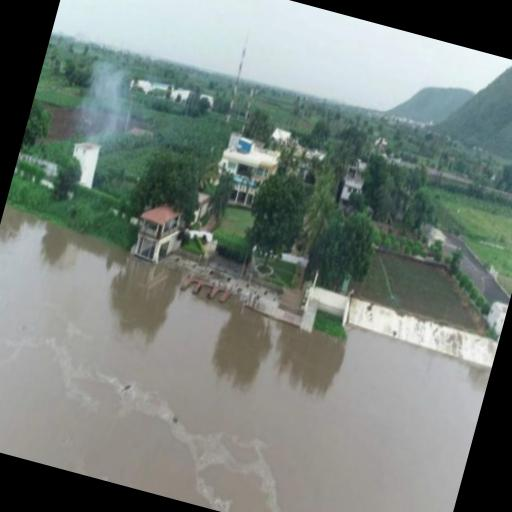flood: (0, 206, 491, 512)
house: (208, 134, 278, 211), (130, 198, 185, 269)
